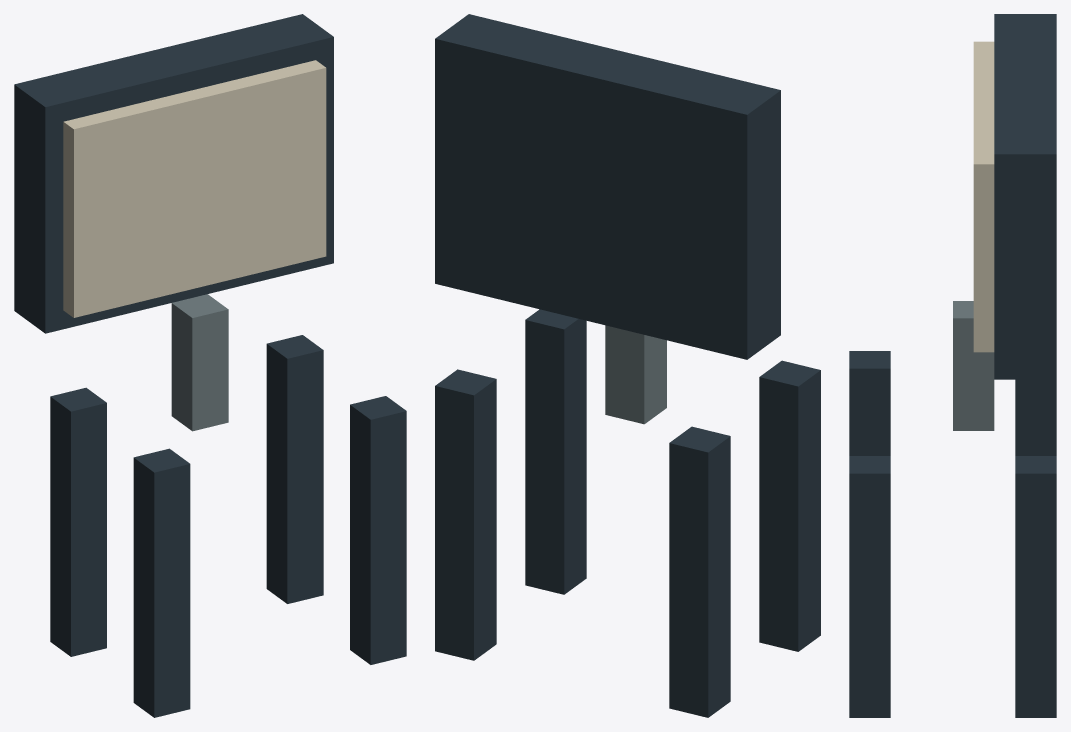
Rendered from photography-03.glb.
3 views of the same model, side by side, from view 1: azimuth 30°, elevation 25°; view 2: azimuth 150°, elevation 25°; view 3: azimuth 270°, elevation 25° (orthographic). The views are drawn at different scales.
Visible parts, largest first — view 1: Softbox; view 2: Softbox; view 3: Softbox.
Part boxes in pixels (x1,y1,x2,y2): Softbox: (14, 14, 406, 717); Softbox: (435, 14, 820, 717); Softbox: (849, 14, 1056, 717).
Size of the model in its own units: 1.28 by 2.4 by 0.8.
